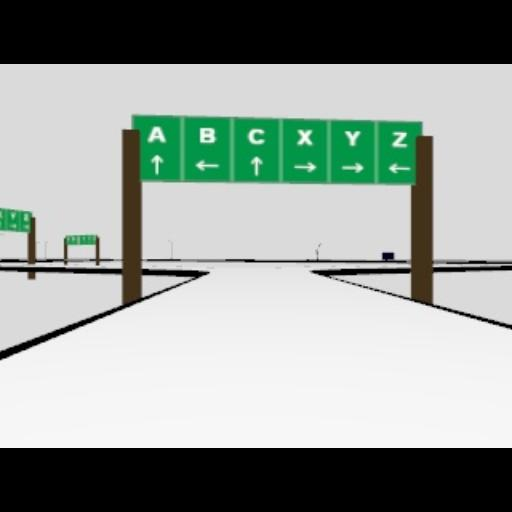A: (146, 125, 166, 143)
B: (200, 127, 216, 143)
C: (248, 128, 266, 144)
Left: (193, 160, 219, 170), (385, 163, 411, 173)
Right: (293, 162, 317, 172), (341, 162, 363, 172)
Straight: (150, 154, 164, 174), (250, 156, 262, 174)
X: (296, 128, 312, 144)
Y: (344, 130, 360, 146), (10, 211, 16, 219), (10, 223, 16, 229)
Z: (390, 131, 408, 147), (4, 208, 18, 216), (23, 211, 29, 221), (0, 208, 4, 216)
